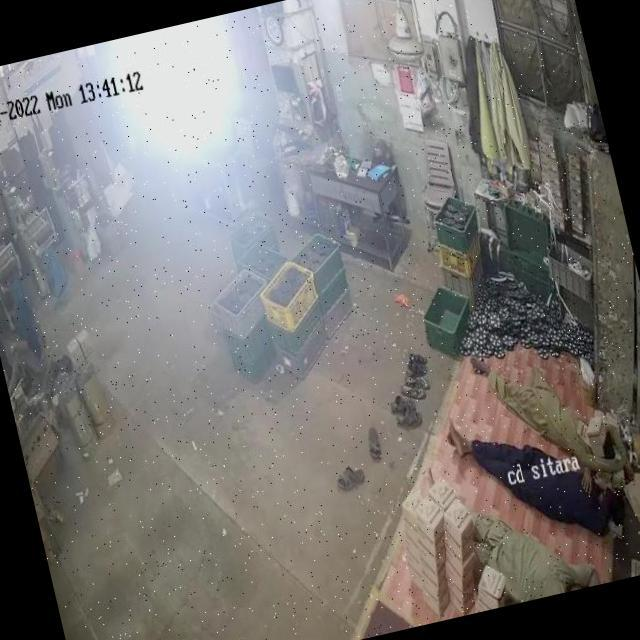person: (445, 382, 627, 580), (469, 328, 632, 503), (0, 281, 45, 366), (0, 314, 13, 375)
